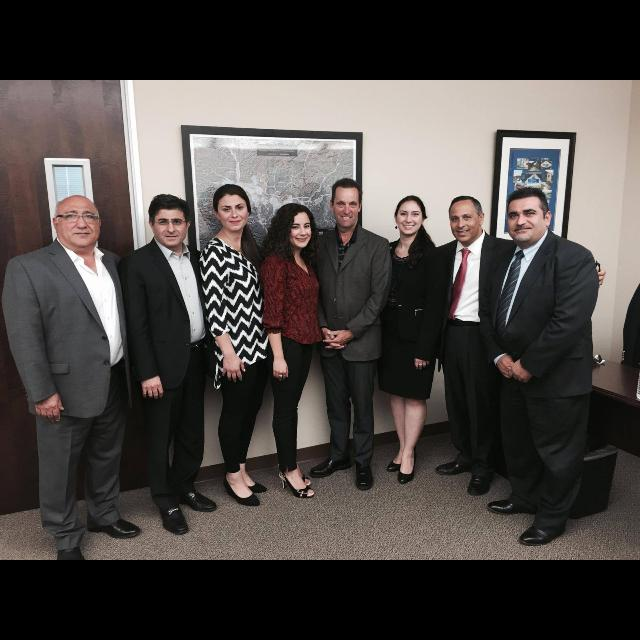head: (506, 186, 554, 246), (52, 194, 102, 248), (507, 191, 553, 243), (148, 195, 192, 247), (214, 184, 252, 233), (275, 203, 313, 249), (329, 179, 363, 229), (394, 194, 426, 236)
person: (426, 193, 608, 499), (484, 185, 600, 550), (113, 192, 220, 538), (303, 177, 395, 493), (372, 194, 453, 486), (197, 182, 269, 510), (258, 202, 328, 500)
